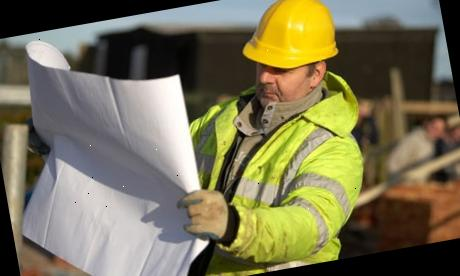helmet: (233, 0, 344, 77)
wear: (188, 88, 377, 276)
